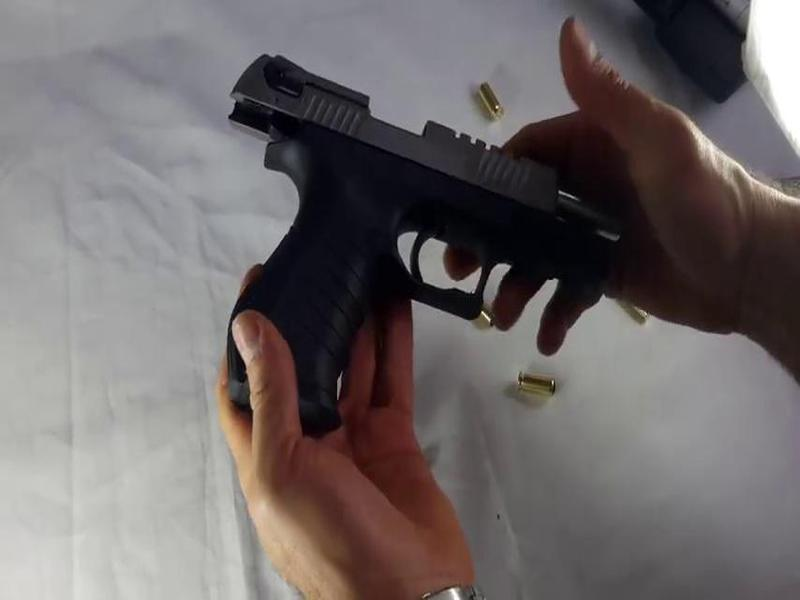Pistola: (169, 66, 663, 413)
